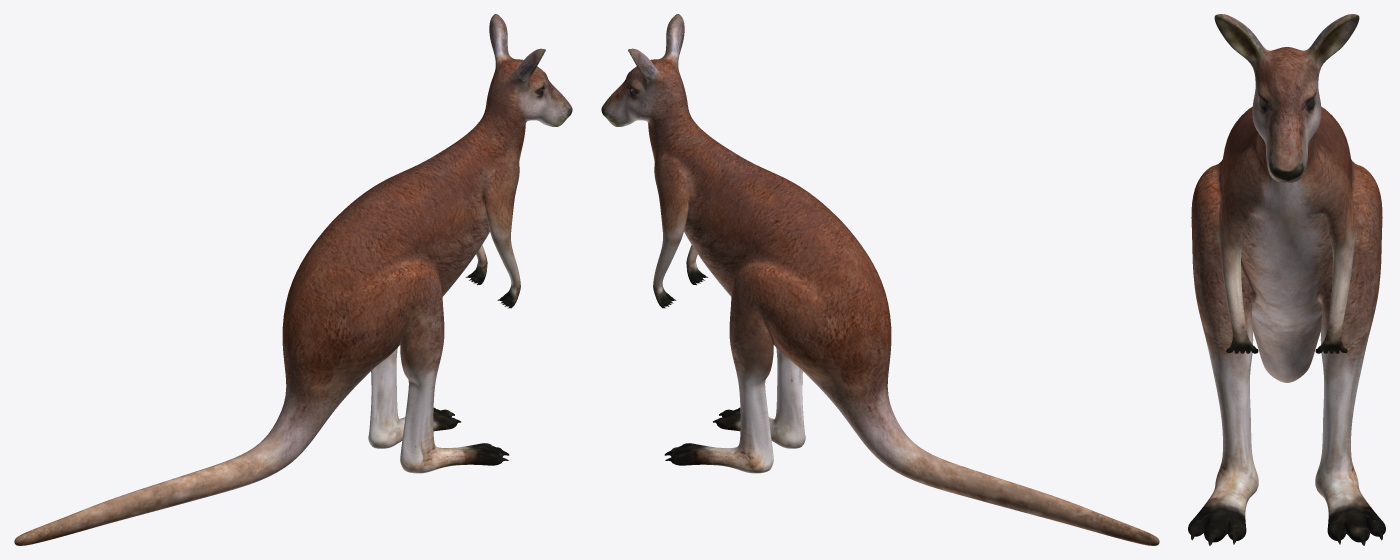
Rendered from roo.glb.
The picture shows the model from 3 angles, left to right: view 1: azimuth 30°, elevation 25°; view 2: azimuth 150°, elevation 25°; view 3: azimuth 270°, elevation 25°; orthographic projection. The views are drawn at different scales.
Parts seen in each view (by area): view 1: 12271_Kangaroo_v1_L3; view 2: 12271_Kangaroo_v1_L3; view 3: 12271_Kangaroo_v1_L3.
Boxes of the visible parts, box(x1,y1,x2,y2) form: 12271_Kangaroo_v1_L3: box(14, 14, 572, 545); 12271_Kangaroo_v1_L3: box(601, 14, 1159, 545); 12271_Kangaroo_v1_L3: box(1188, 14, 1385, 545).
Size of the model in its own units: 2.74 by 1.87 by 0.598.
2 materials, 2 textured.
